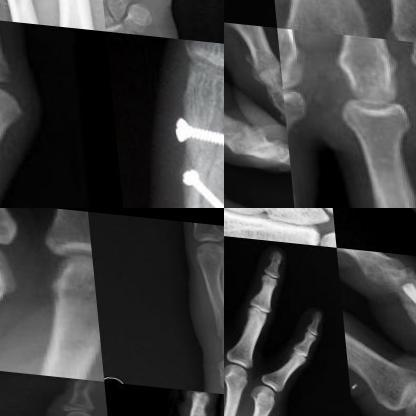fracture: (159, 104, 223, 207), (391, 269, 415, 378), (214, 261, 223, 315)
